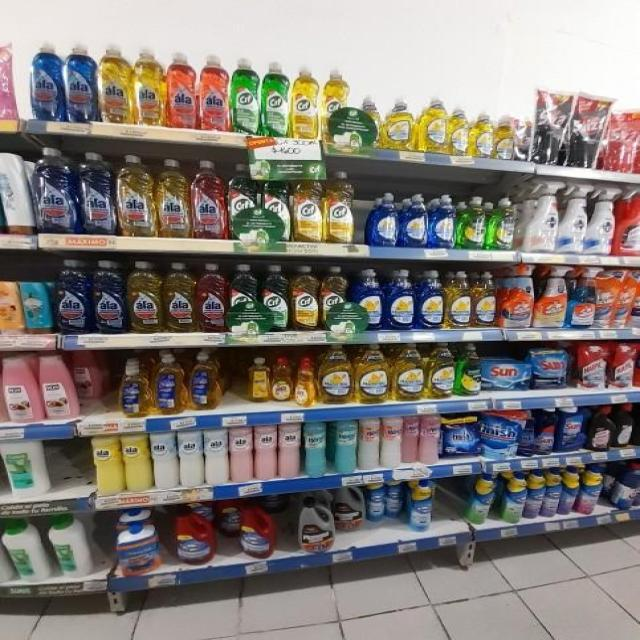ala_conc_amarillo: (116, 154, 154, 238), (156, 158, 190, 239), (98, 43, 130, 124), (127, 260, 162, 334), (132, 46, 164, 126), (163, 261, 196, 334)
ala_conc_azul: (35, 147, 76, 234), (78, 151, 115, 236), (29, 40, 64, 122), (55, 258, 91, 335), (64, 41, 96, 123), (92, 259, 125, 335), (530, 342, 570, 390), (525, 408, 556, 456), (558, 406, 586, 453)
ala_conc_rojo: (191, 160, 226, 240), (198, 53, 229, 132), (166, 51, 197, 129), (197, 262, 227, 334), (575, 342, 608, 391), (0, 35, 16, 121), (610, 342, 636, 389), (589, 406, 614, 452)
ala_crem_amarillo: (91, 435, 122, 495), (123, 433, 150, 492)
ala_crem_blanco: (178, 430, 204, 487), (204, 428, 228, 485)
ala_crem_rosado: (278, 421, 302, 479), (229, 426, 253, 483), (254, 423, 277, 481)
cif_conc_bot_amarilla: (324, 169, 357, 244), (320, 66, 352, 143), (292, 165, 323, 243), (291, 63, 320, 140), (290, 264, 320, 332), (321, 265, 348, 332)
cif_conc_botella_verde: (228, 162, 260, 242), (230, 56, 260, 135), (261, 162, 290, 243), (261, 60, 289, 138), (229, 263, 259, 334), (260, 264, 290, 332)
heroe: (304, 420, 328, 477), (332, 419, 357, 473), (358, 417, 379, 471), (381, 416, 402, 468)
magistral_con_amarillo: (318, 343, 354, 405), (355, 343, 390, 403), (381, 94, 415, 150), (393, 342, 425, 401), (418, 94, 447, 153), (445, 269, 472, 329), (426, 342, 454, 399), (472, 270, 498, 328), (448, 100, 469, 155)
magistral_con_azul: (351, 268, 384, 331), (386, 269, 416, 330), (417, 269, 444, 330), (368, 192, 398, 246), (400, 192, 428, 248), (429, 194, 455, 248)
zorro: (153, 351, 185, 416), (188, 351, 220, 412)
